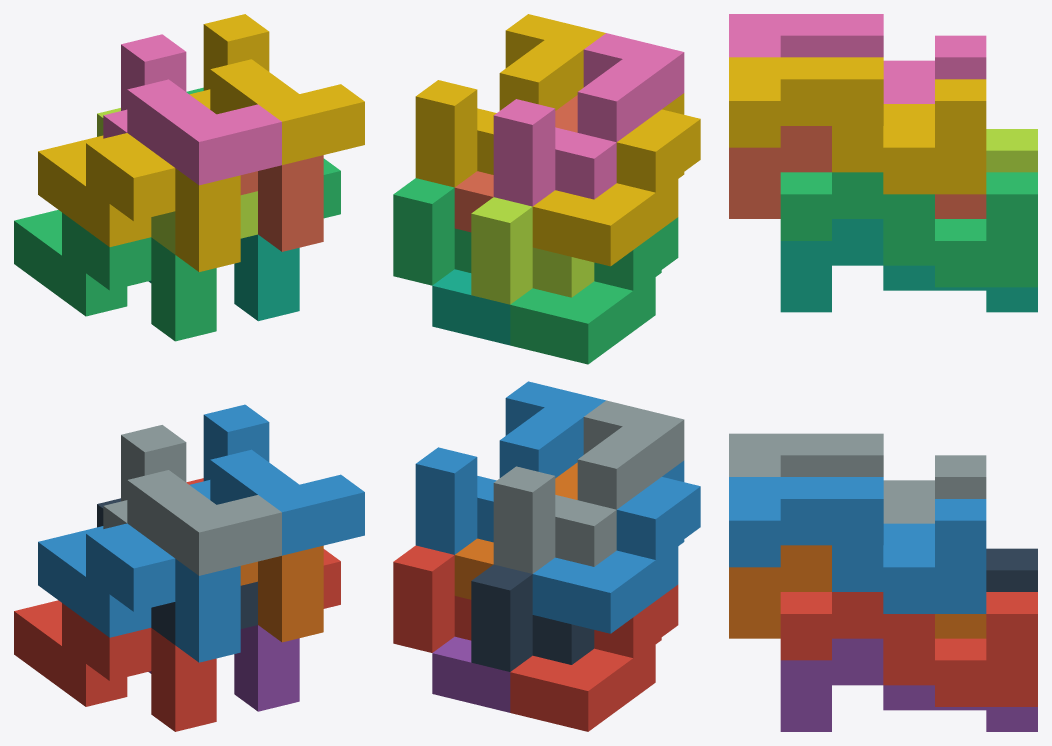
File: tiling.obj
The picture shows the model from 3 angles, left to right: view 1: azimuth 30°, elevation 25°; view 2: azimuth 150°, elevation 25°; view 3: azimuth 270°, elevation 25°; orthographic projection. The views are drawn at different scales.
Parts seen in each view (by area): view 1: copy_1_domain_2, copy_1_domain_4, copy_1_domain_1, copy_1_domain_3, copy_2_domain_2, copy_2_domain_4, copy_2_domain_8, copy_2_domain_6, copy_1_domain_6, copy_1_domain_8, copy_1_domain_5, copy_1_domain_7 (+4 smaller); view 2: copy_2_domain_4, copy_2_domain_2, copy_1_domain_2, copy_1_domain_4, copy_2_domain_8, copy_2_domain_6, copy_1_domain_3, copy_1_domain_1, copy_2_domain_1, copy_2_domain_3, copy_2_domain_5, copy_2_domain_7 (+4 smaller); view 3: copy_2_domain_8, copy_2_domain_6, copy_2_domain_7, copy_2_domain_5, copy_2_domain_4, copy_2_domain_2, copy_1_domain_5, copy_1_domain_7, copy_1_domain_6, copy_1_domain_8, copy_2_domain_1, copy_2_domain_3.
Boxes of the visible parts, x1,y1,x2,y2 form: copy_1_domain_2: [38, 523, 240, 662]; copy_1_domain_4: [38, 133, 240, 271]; copy_1_domain_1: [14, 600, 216, 731]; copy_1_domain_3: [14, 210, 216, 341]; copy_2_domain_2: [103, 425, 281, 575]; copy_2_domain_4: [103, 34, 281, 185]; copy_2_domain_8: [189, 14, 364, 164]; copy_2_domain_6: [190, 404, 364, 555]; copy_1_domain_6: [240, 545, 323, 642]; copy_1_domain_8: [240, 155, 323, 251]; copy_1_domain_5: [148, 625, 299, 711]; copy_1_domain_7: [148, 234, 299, 321]; copy_2_domain_4: [493, 33, 684, 206]; copy_2_domain_2: [493, 400, 684, 573]; copy_1_domain_2: [532, 460, 700, 633]; copy_1_domain_4: [532, 93, 700, 266]; copy_2_domain_8: [415, 14, 605, 187]; copy_2_domain_6: [415, 381, 605, 554]; copy_1_domain_3: [510, 217, 678, 364]; copy_1_domain_1: [510, 585, 678, 731]; copy_2_domain_1: [471, 564, 594, 671]; copy_2_domain_3: [471, 197, 594, 304]; copy_2_domain_5: [393, 545, 471, 652]; copy_2_domain_7: [393, 178, 471, 285]; copy_2_domain_8: [729, 57, 986, 194]; copy_2_domain_6: [729, 477, 986, 613]; copy_2_domain_7: [780, 172, 1037, 287]; copy_2_domain_5: [780, 592, 1037, 706]; copy_2_domain_4: [729, 14, 986, 103]; copy_2_domain_2: [729, 433, 986, 523]; copy_1_domain_5: [780, 638, 1037, 731]; copy_1_domain_7: [780, 219, 1037, 312]; copy_1_domain_6: [729, 545, 986, 638]; copy_1_domain_8: [729, 126, 986, 218]; copy_2_domain_1: [986, 548, 1037, 591]; copy_2_domain_3: [986, 129, 1037, 172].
Bounding box in the file's own units: 5 × 14 × 6.
